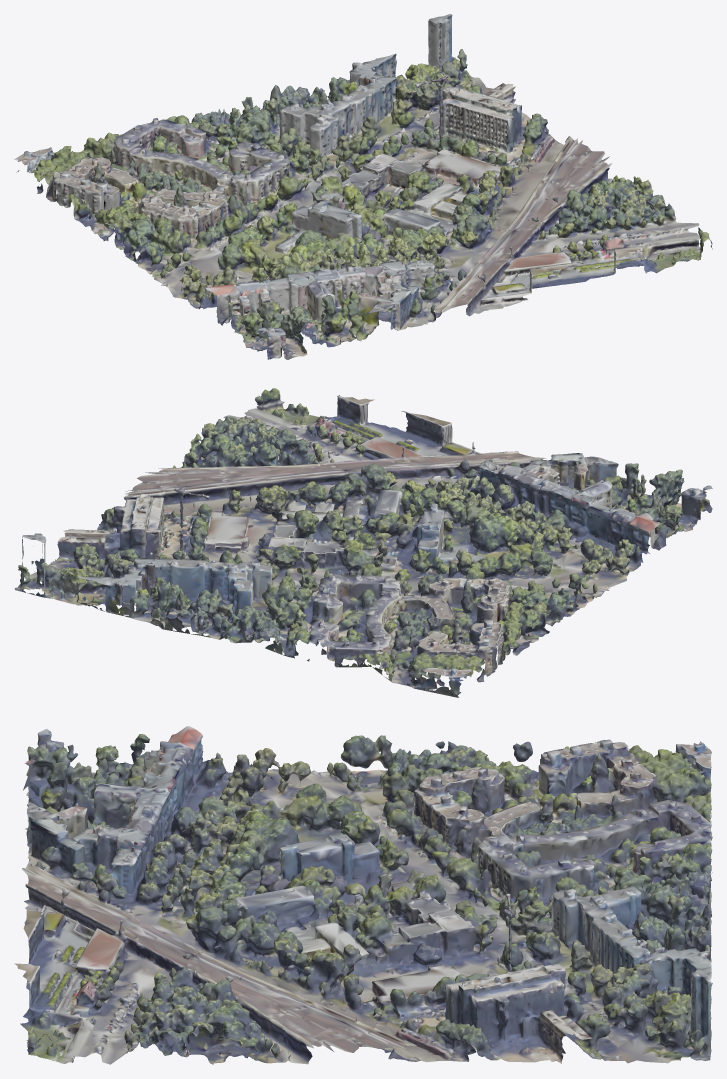
File: surface-detail-3887_58203.glb
3 views of the same model, one above another, from view 1: azimuth 30°, elevation 25°; view 2: azimuth 150°, elevation 25°; view 3: azimuth 270°, elevation 25° (orthographic). The views are drawn at different scales.
Parts seen in each view (by area): view 1: world; view 2: world; view 3: world.
Part boxes in pixels (x1,y1,x2,y2): world: (14,14,712,359); world: (14,388,712,697); world: (14,726,712,1064).
Size of the model in its own units: 379 by 56.69 by 369.
